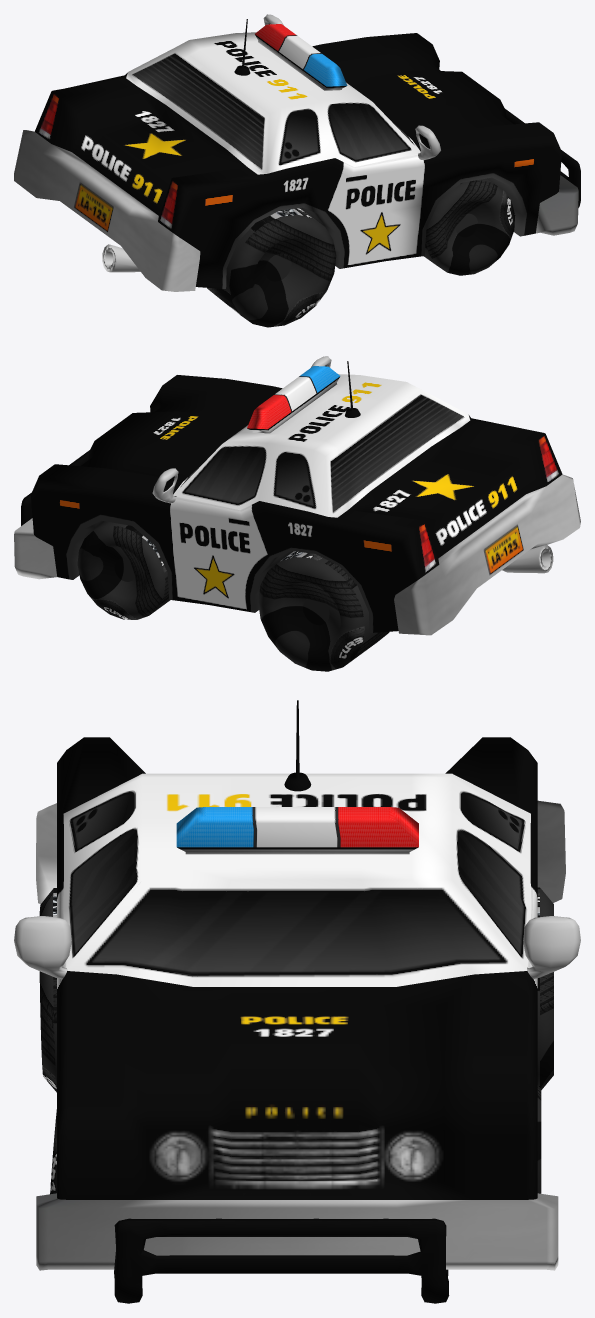
File: policeCar.fbx
3 renders of one model, top to bottom at view 1: azimuth 30°, elevation 25°; view 2: azimuth 150°, elevation 25°; view 3: azimuth 270°, elevation 25°, orthographic. The views are drawn at different scales.
Parts seen in each view (by area): view 1: body, wheel_backRight, wheel_frontRight, topSiren, carMuffler, frontGrill, rightMirror; view 2: body, wheel_backLeft, wheel_frontLeft, topSiren, carMuffler, leftMirror, frontGrill; view 3: body, frontGrill, topSiren, rightMirror, leftMirror, wheel_backLeft, wheel_backRight.
Boxes of the visible parts, x1,y1,x2,y2 form: body: (14, 32, 578, 291); wheel_backRight: (207, 208, 336, 327); wheel_frontRight: (424, 178, 515, 275); topSiren: (255, 24, 347, 90); carMuffler: (102, 244, 140, 272); frontGrill: (505, 109, 580, 207); rightMirror: (415, 125, 440, 160); body: (14, 374, 580, 635); wheel_backLeft: (258, 551, 389, 671); wheel_frontLeft: (77, 521, 170, 619); topSiren: (247, 366, 340, 433); carMuffler: (502, 545, 553, 573); leftMirror: (152, 468, 178, 503); frontGrill: (21, 450, 89, 525); body: (36, 737, 565, 1270); frontGrill: (114, 1218, 449, 1303); topSiren: (176, 807, 418, 854); rightMirror: (14, 916, 71, 979); leftMirror: (523, 916, 580, 978); wheel_backLeft: (537, 887, 553, 1089); wheel_backRight: (39, 888, 56, 1092).
Bounding box in the file's own units: 3.17 × 1.65 × 2.06.
